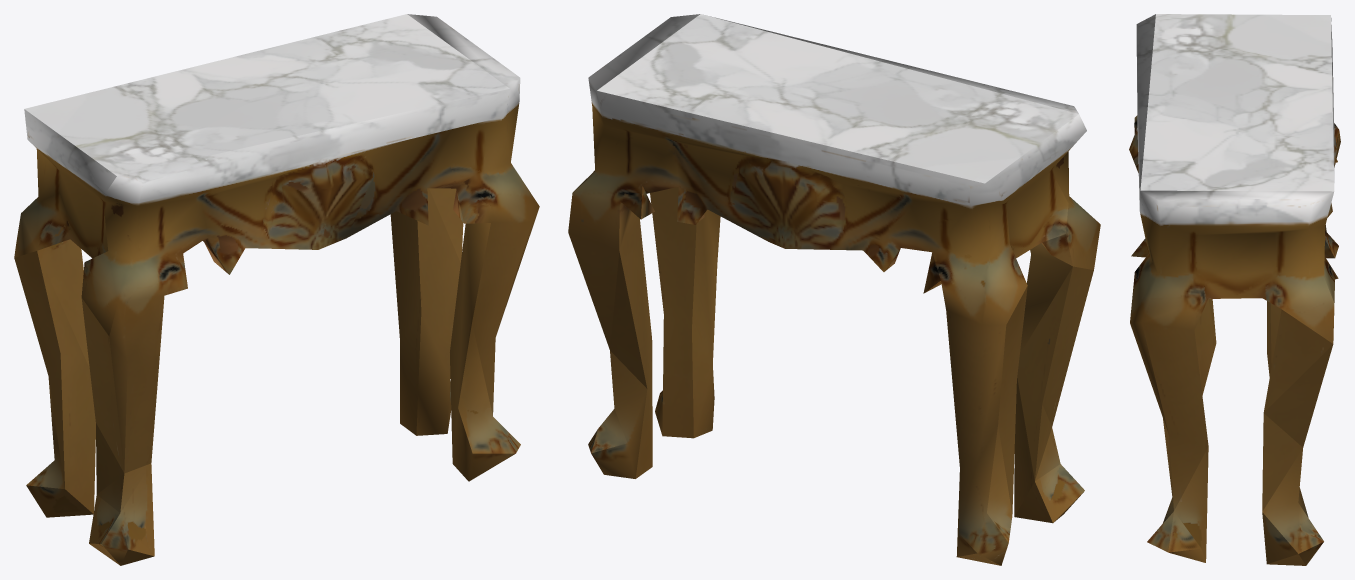
The model's file is marble-console-table.glb.
The picture shows the model from 3 angles, left to right: view 1: azimuth 30°, elevation 25°; view 2: azimuth 150°, elevation 25°; view 3: azimuth 270°, elevation 25°; orthographic projection. The views are drawn at different scales.
Parts seen in each view (by area): view 1: geometry_0.001; view 2: geometry_0.001; view 3: geometry_0.001.
Boxes of the visible parts, bbox=[...] form: geometry_0.001: bbox=[14, 14, 539, 565]; geometry_0.001: bbox=[568, 14, 1100, 565]; geometry_0.001: bbox=[1129, 14, 1340, 565].
Bounding box in the file's own units: 1 × 0.8799 × 0.4525.
Materials: 1 (1 with a texture image).
